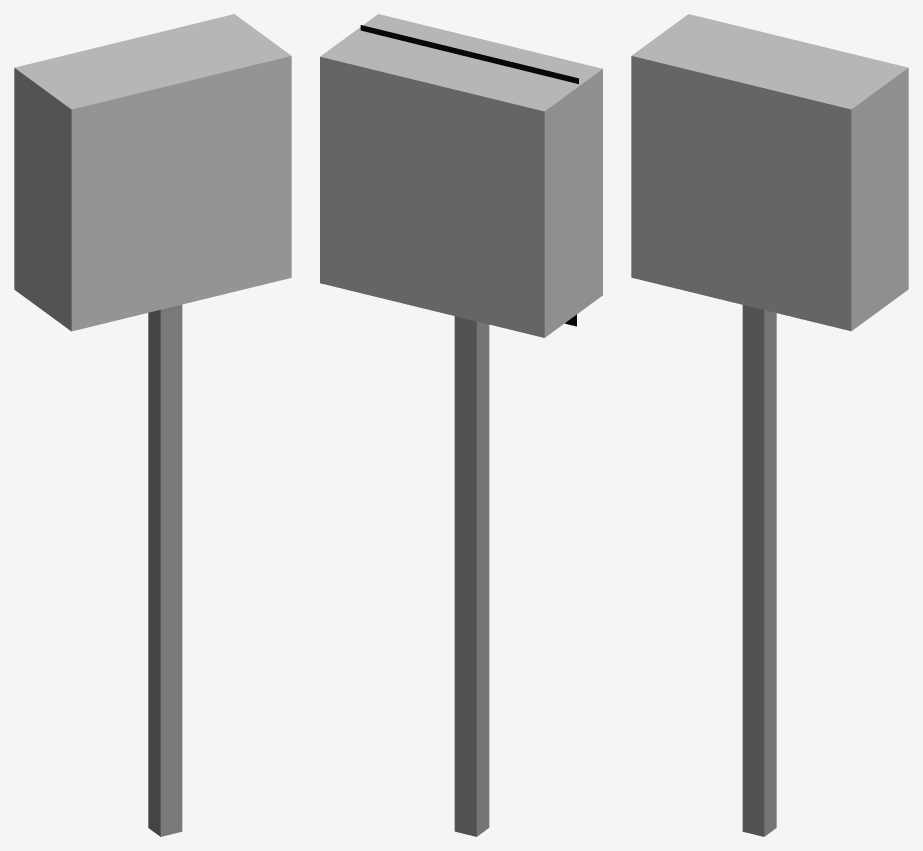
Rendered from squareSign.obj.
3 views of the same model, side by side, from view 1: azimuth 30°, elevation 25°; view 2: azimuth 150°, elevation 25°; view 3: azimuth 330°, elevation 25° (orthographic). The views are drawn at different scales.
Parts seen in each view (by area): view 1: Cube.002, Cube.001; view 2: Cube.002, Cube.001, Plane_Plane.001; view 3: Cube.002, Cube.001.
Boxes of the visible parts, x1,y1,x2,y2 form: Cube.002: (14, 14, 291, 331); Cube.001: (148, 304, 182, 836); Cube.002: (320, 14, 602, 337); Cube.001: (454, 316, 489, 836); Plane_Plane.001: (360, 25, 578, 326); Cube.002: (631, 14, 908, 331); Cube.001: (742, 305, 776, 836).
Size of the model in its own units: 2 by 6.65 by 0.9.
